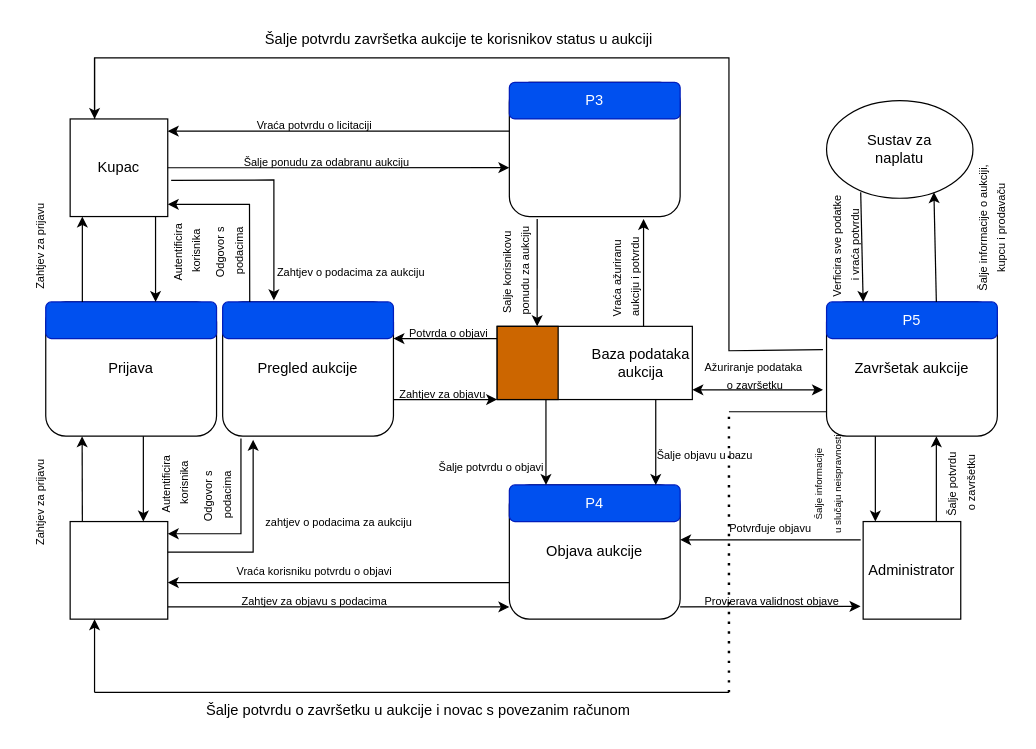
The diagram is 1036 pixels wide and 749 high, and some of its shapes have lost their labels. The box of each missing label's shape, as (x1, y1, x2, y2) in pixels:
D1: (496, 325, 558, 400)
Licitacija: (508, 81, 680, 217)
P1: (45, 301, 217, 339)
P2: (221, 301, 393, 339)
Prodavač: (69, 520, 168, 619)
